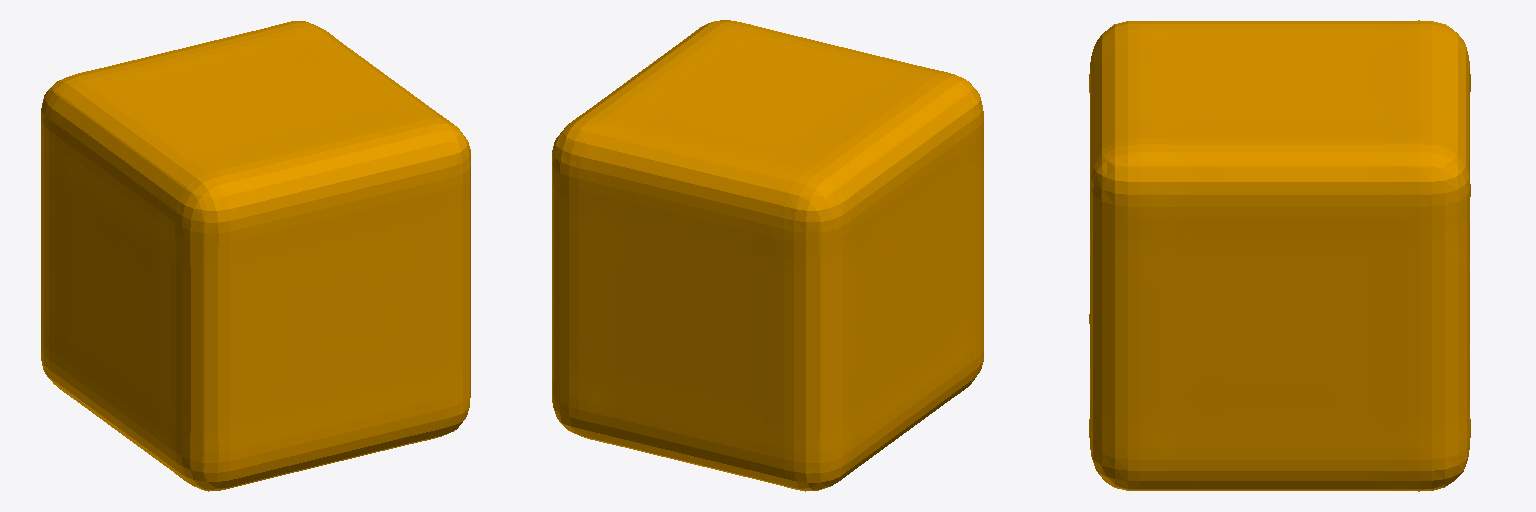
URDF robot description (C0):
<robot name="C0">
    <link name="base">
        <inertial>
            <origin xyz="-0.0 -0.0 -0.0" />
            <mass value="0.3227" />
            <inertia ixx="0.0244" ixy="0.0"
                     ixz="0.0" iyy="0.0215"
                     iyz="-0.0" izz="0.0305" />
        </inertial>
        <visual>
            <origin xyz="0 0 0" />
            <geometry>
                <mesh filename="C0.obj" />
            </geometry>
        </visual>
        <collision>
            <origin xyz="0 0 0" />
            <geometry>
                <mesh filename="C0.obj" />
            </geometry>
        </collision>
    </link>
</robot>

--- What the picture shows (computed from the rendered views, not written in the file) ---
The picture shows the robot from 3 angles, left to right: view 1: azimuth 30°, elevation 25°; view 2: azimuth 150°, elevation 25°; view 3: azimuth 270°, elevation 25°; orthographic projection.
Model C0 with 1 links and 0 joints (none), rooted at base, posed all joints at 0.
Links seen in each view (by area): view 1: base; view 2: base; view 3: base.
Boxes of the visible links, x1,y1,x2,y2 form: base: (41,21,470,491); base: (552,20,983,491); base: (1089,20,1470,491).
Size in the robot's own frame: 96.15 by 99.99 by 99.99 metres.
1 mesh visuals loaded from 1 distinct referenced files (1 OBJ).